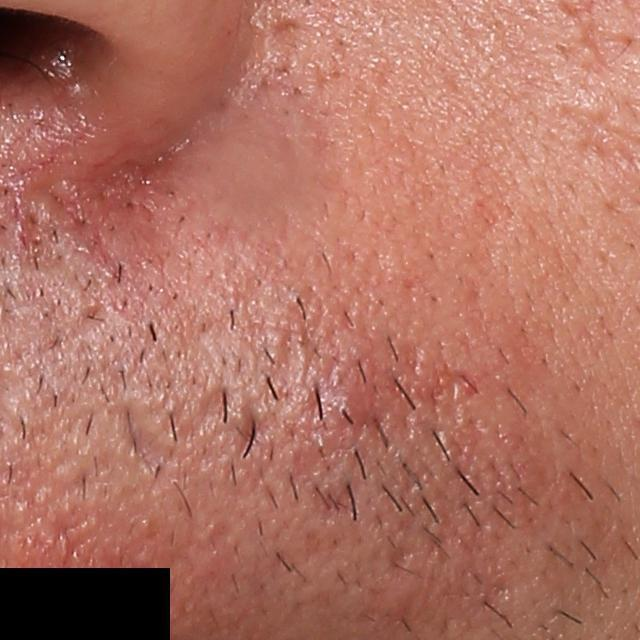atrophic_scar: (116, 400, 193, 478), (236, 396, 281, 465), (188, 385, 236, 442), (267, 18, 306, 48)
